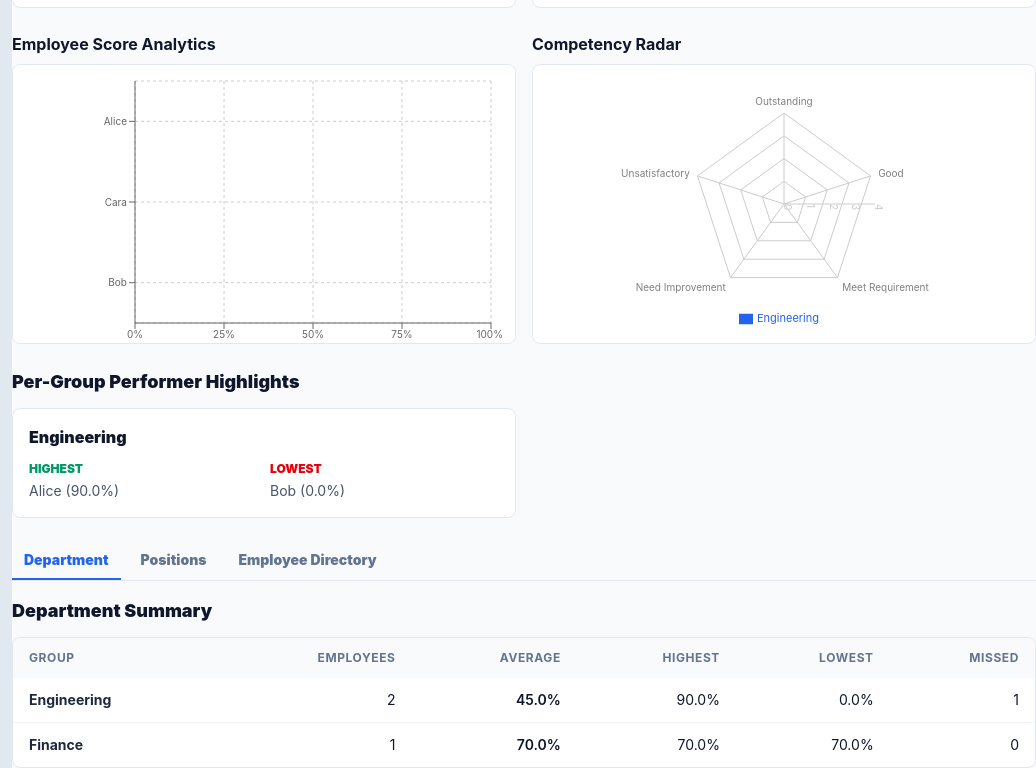
Test case: SelfAssessmentReportPage › HR Department tab row click filters Positions
The image size is (1036, 768).
(page scrolled)
Click the cell "Engineering".
click(70, 700)  # box x1=13 y1=678 x2=216 y2=722
(page scrolled)
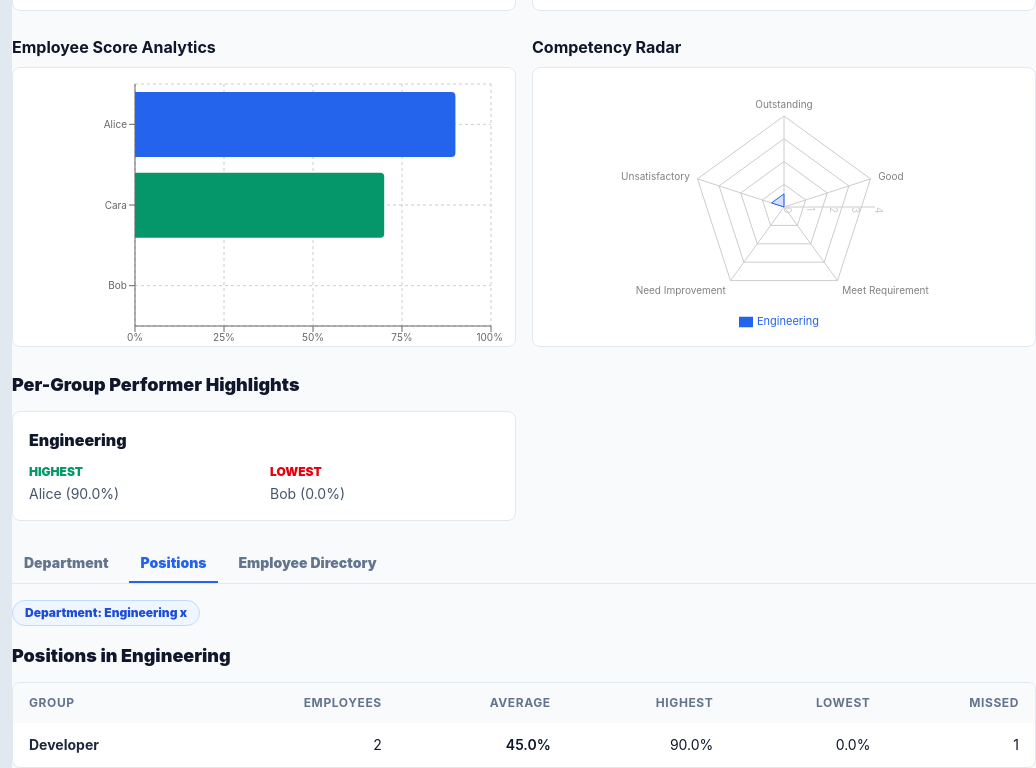
Expected: the heading "Positions in Engineering" is shown, x1=12 y1=645 x2=231 y2=666
Expected: the cell "Developer" is shown, x1=13 y1=723 x2=198 y2=767
